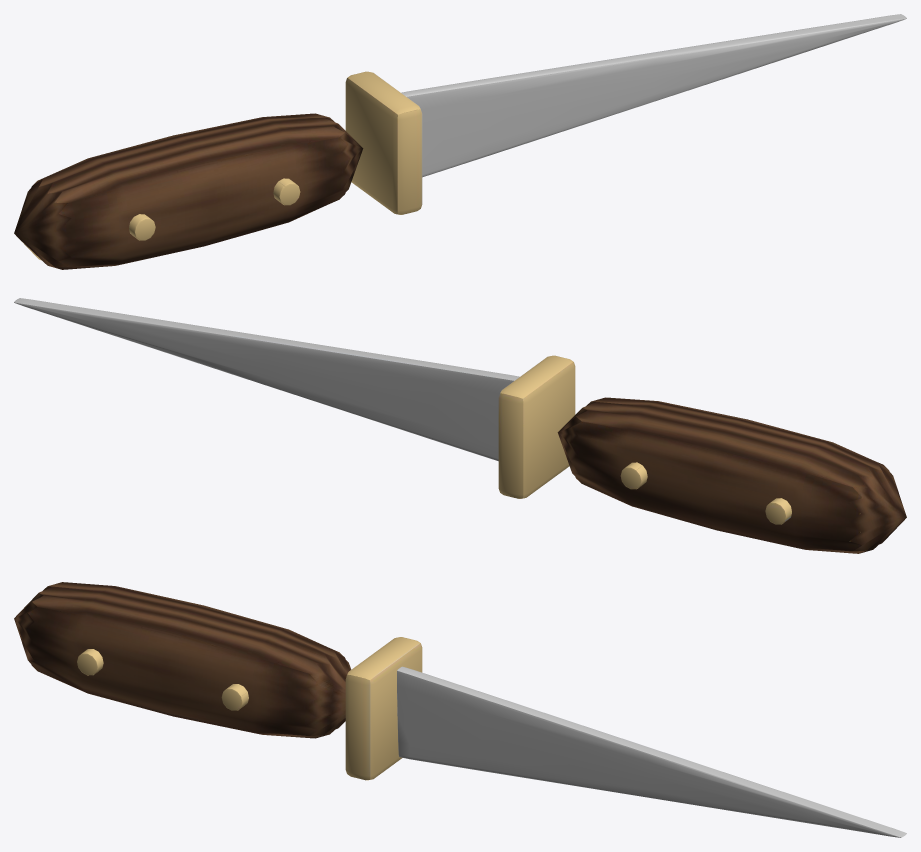
Rendered from knife.glb.
3 renders of one model, top to bottom at view 1: azimuth 30°, elevation 25°; view 2: azimuth 150°, elevation 25°; view 3: azimuth 330°, elevation 25°, orthographic.
Visible parts, largest first — view 1: handle, blade, bolster, rivet-0.03, rivet-0.07; view 2: handle, blade, bolster, rivet-0.03, rivet-0.07; view 3: handle, blade, bolster, rivet-0.03, rivet-0.07.
Boxes of the visible parts, bbox=[...] form: handle: bbox=[14, 113, 363, 269]; blade: bbox=[401, 14, 906, 177]; bolster: bbox=[345, 71, 422, 214]; rivet-0.03: bbox=[273, 178, 300, 205]; rivet-0.07: bbox=[129, 214, 155, 240]; handle: bbox=[557, 397, 906, 553]; blade: bbox=[14, 298, 519, 461]; bolster: bbox=[498, 355, 575, 498]; rivet-0.03: bbox=[620, 462, 647, 489]; rivet-0.07: bbox=[765, 498, 791, 524]; handle: bbox=[14, 582, 351, 738]; blade: bbox=[397, 666, 906, 837]; bolster: bbox=[345, 637, 422, 780]; rivet-0.03: bbox=[221, 684, 248, 710]; rivet-0.07: bbox=[77, 649, 103, 675].
Size of the model in its own units: 0.2463 by 0.028 by 0.028.
Materials: 1 (1 with a texture image).
